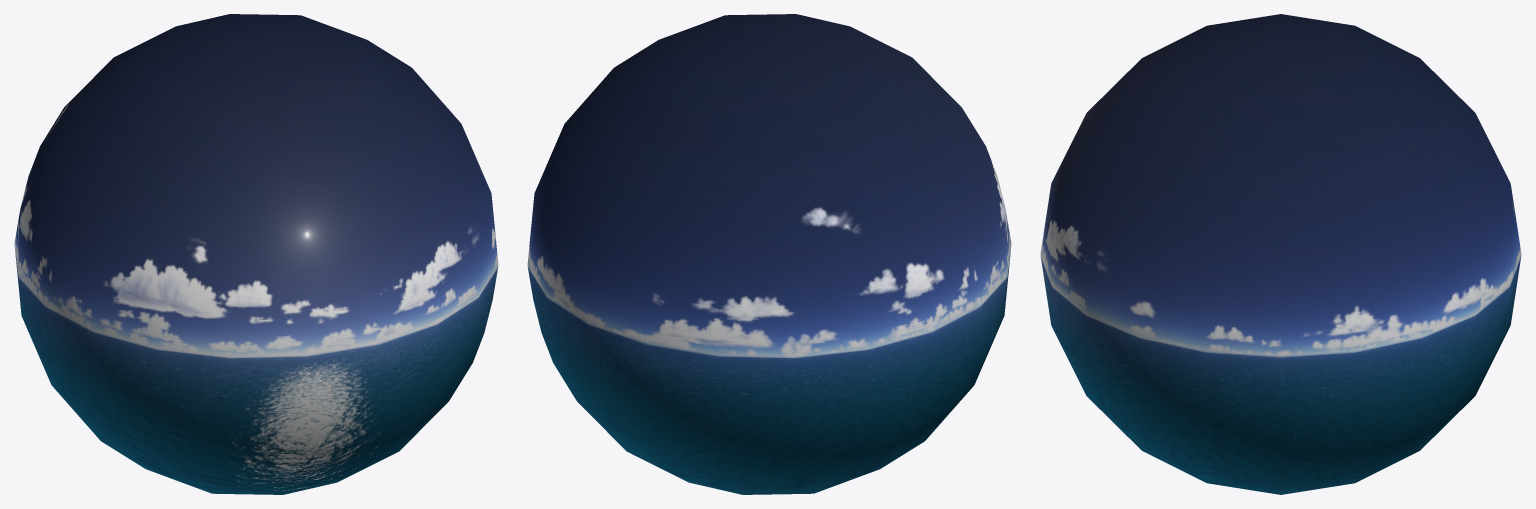
The model's file is Fine_Sea2.FBX.
3 renders of one model, left to right at view 1: azimuth 30°, elevation 25°; view 2: azimuth 150°, elevation 25°; view 3: azimuth 270°, elevation 25°, orthographic.
Parts seen in each view (by area): view 1: GeoSphere001; view 2: GeoSphere001; view 3: GeoSphere001.
Part boxes in pixels (x1,y1,x2,y2): GeoSphere001: (14,14,498,494); GeoSphere001: (527,14,1011,494); GeoSphere001: (1040,14,1521,494).
Bounding box in the file's own units: 78.73 × 78.73 × 78.73.
Materials: 1 (1 with a texture image).
